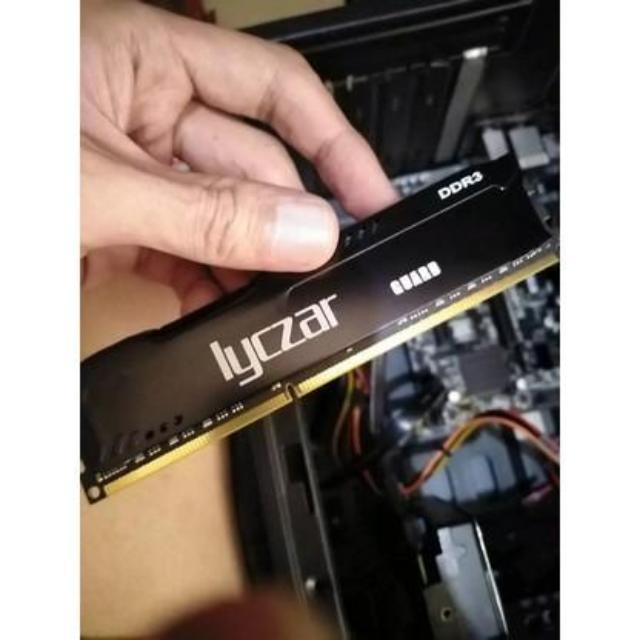RAM: (78, 148, 564, 503)
